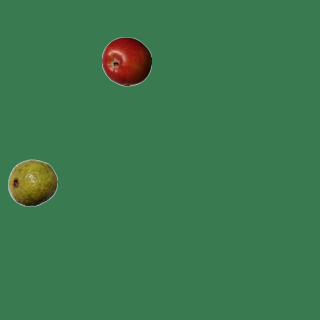Apple Braeburn: (101, 36, 151, 86)
Guava: (7, 157, 57, 207)
